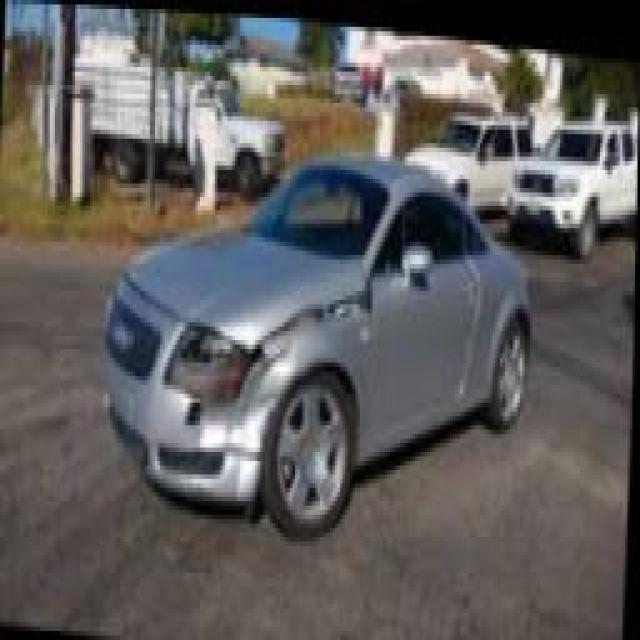replaceable: (180, 310, 292, 450), (291, 289, 377, 331)
